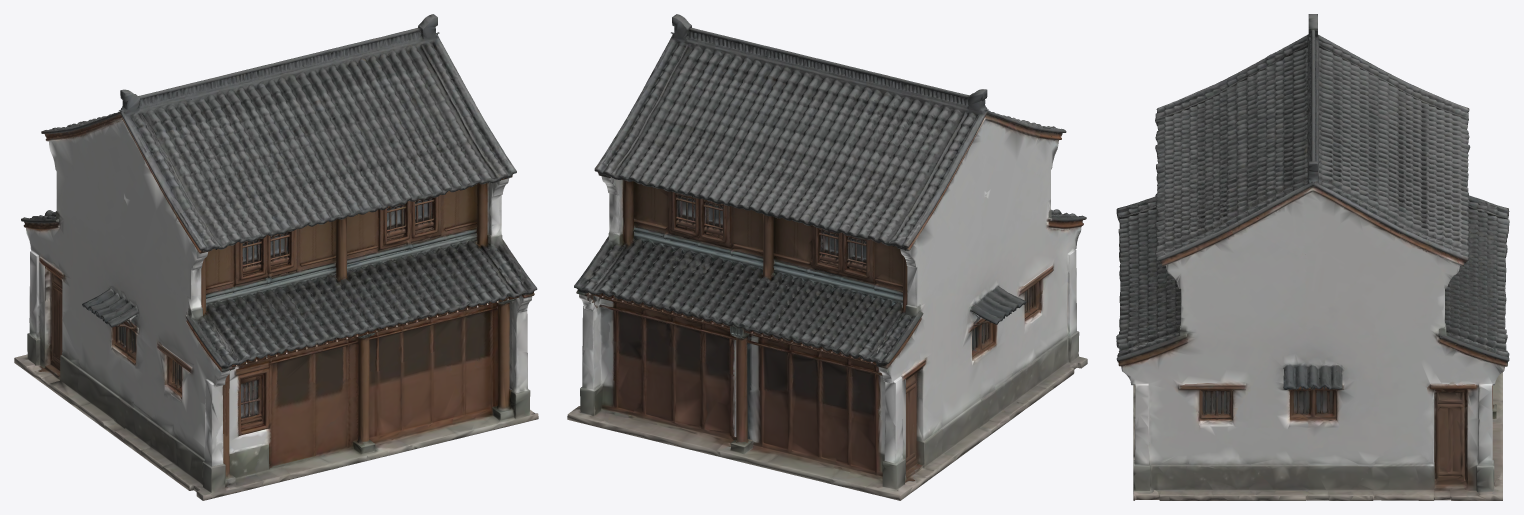
Rendered from bq_house_2f.hd.glb.
3 views of the same model, side by side, from view 1: azimuth 30°, elevation 25°; view 2: azimuth 150°, elevation 25°; view 3: azimuth 270°, elevation 25° (orthographic). The views are drawn at different scales.
Size of the model in its own units: 1.9 by 1.69 by 1.81.
Materials: 1 (1 with a texture image).
